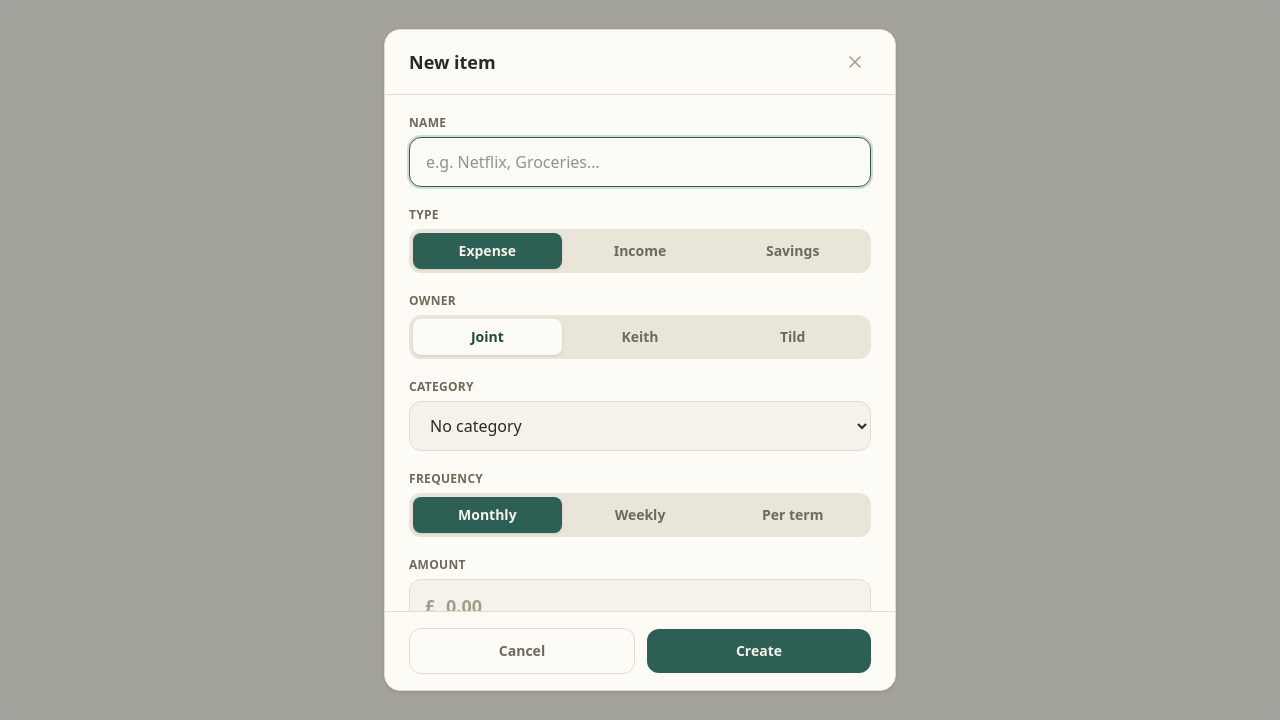
Scenario: ItemCategoryModal › Submission & validation › blocks submit and shows an error when name or amount is missing
Click the button "Create" at (759, 651), box left=647, top=629, right=871, bottom=673
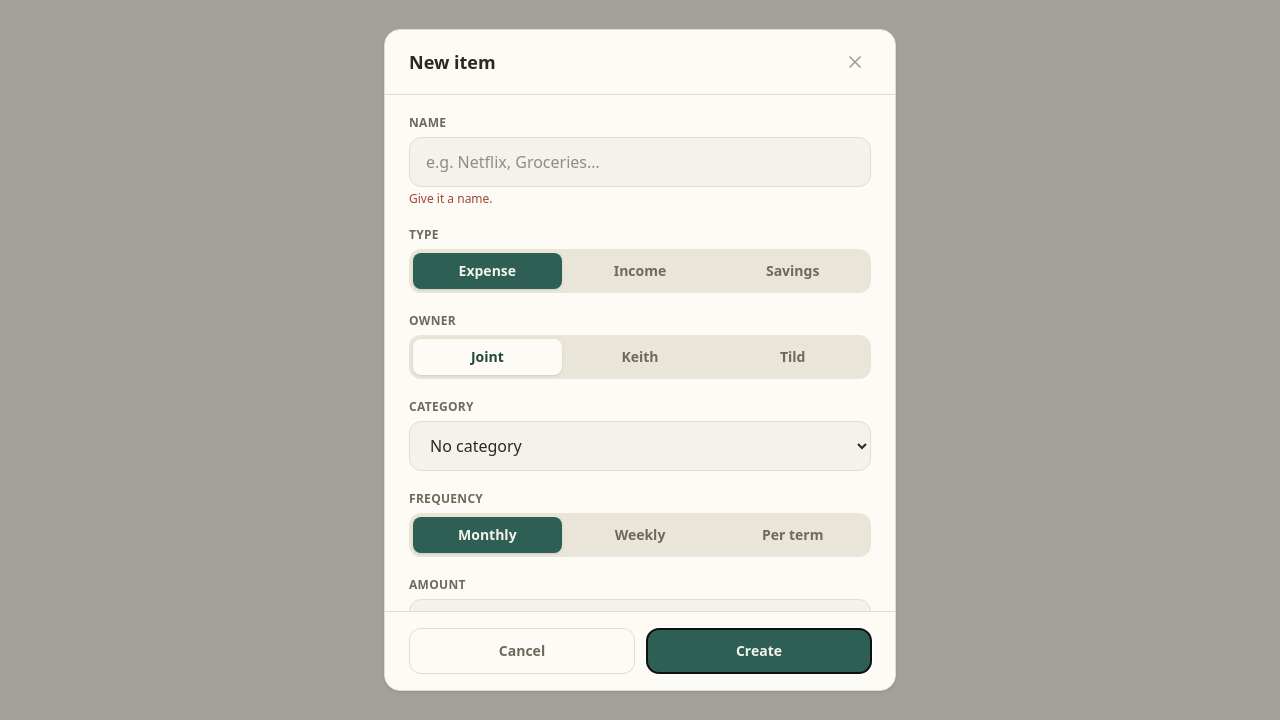
Expected: the text "Give it a name." is shown, left=409, top=190, right=493, bottom=207
